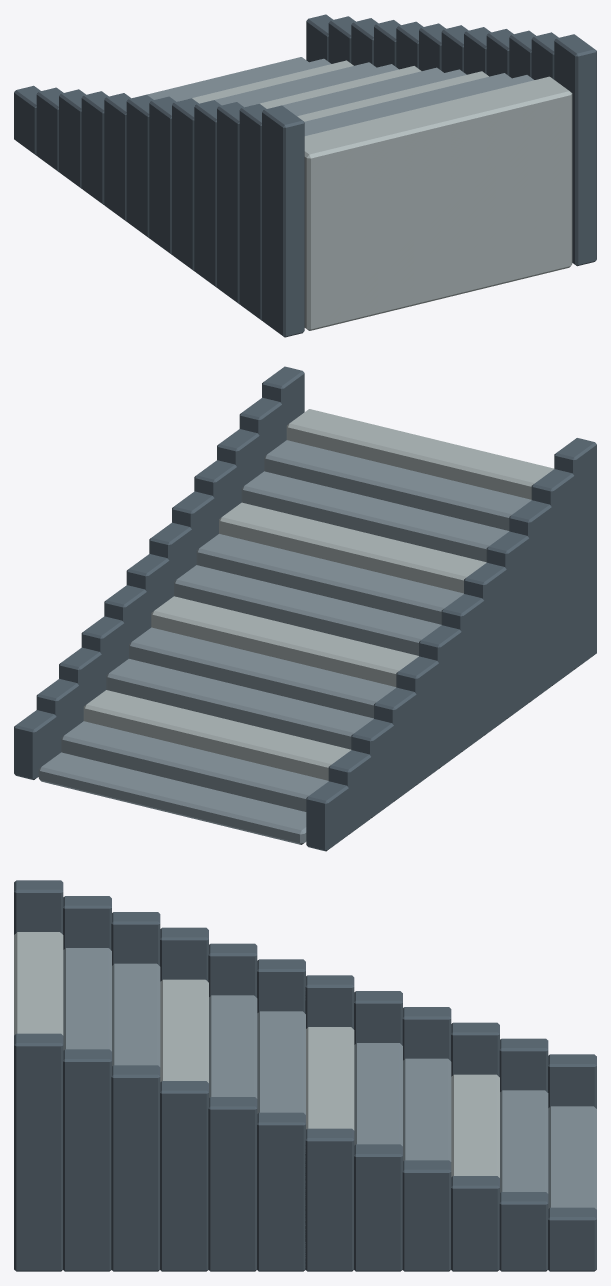
The model's file is crypt_stairway.glb.
The picture shows the model from 3 angles, top to bottom: view 1: azimuth 30°, elevation 25°; view 2: azimuth 150°, elevation 25°; view 3: azimuth 270°, elevation 25°; orthographic projection. The views are drawn at different scales.
Visible parts, largest first — view 1: crypt_stairway_Geometry; view 2: crypt_stairway_Geometry; view 3: crypt_stairway_Geometry.
Part boxes in pixels (box(x1,y1,x2,y2)): crypt_stairway_Geometry: box(14, 14, 596, 337); crypt_stairway_Geometry: box(14, 366, 596, 851); crypt_stairway_Geometry: box(14, 880, 596, 1271).
Bounding box in the file's own units: 4.02 × 2.6 × 6.01.
